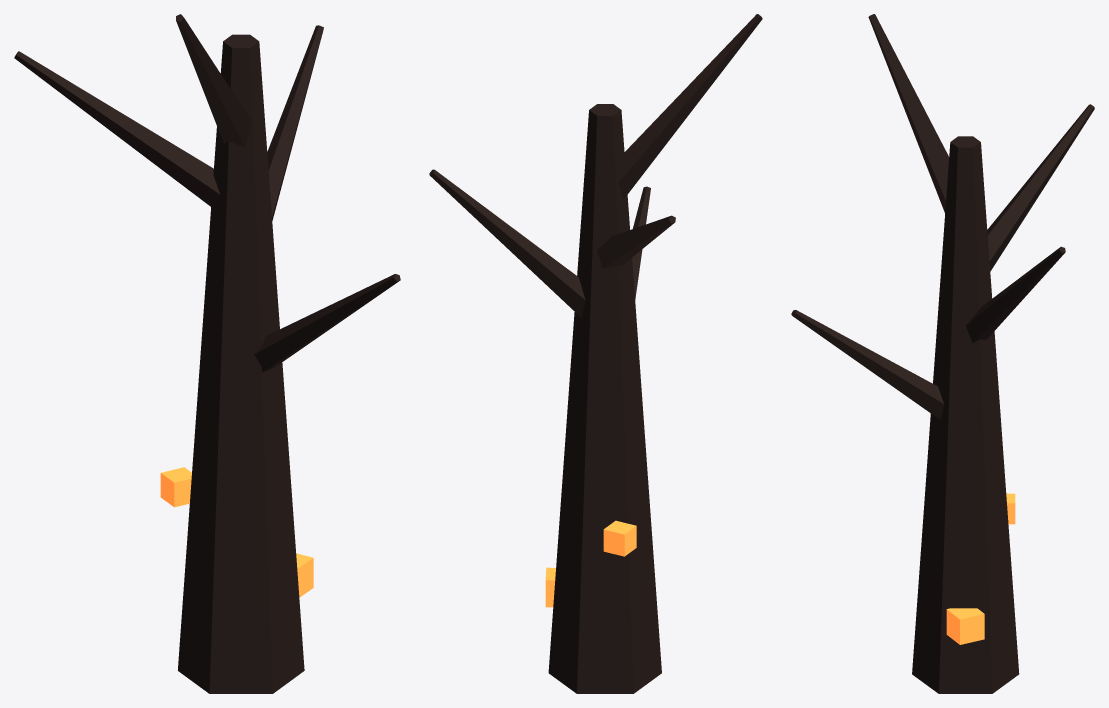
The model's file is charred_tree.glb.
The picture shows the model from 3 angles, left to right: view 1: azimuth 30°, elevation 25°; view 2: azimuth 150°, elevation 25°; view 3: azimuth 270°, elevation 25°; orthographic projection. The views are drawn at different scales.
Visible parts, largest first — view 1: charred_tree; view 2: charred_tree; view 3: charred_tree.
Boxes of the visible parts, box(x1,y1,x2,y2) form: charred_tree: box(14, 14, 400, 693); charred_tree: box(429, 14, 762, 693); charred_tree: box(791, 14, 1094, 693).
Size of the model in its own units: 2.24 by 5.3 by 2.38.
